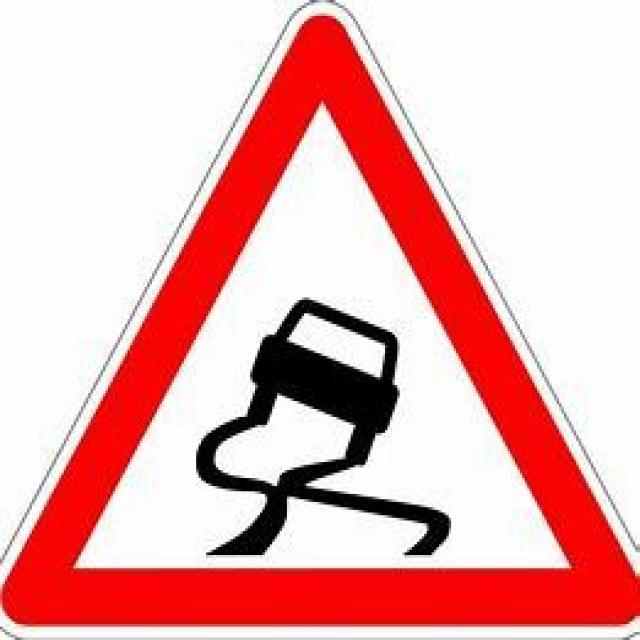slippery road: (21, 17, 626, 625)
